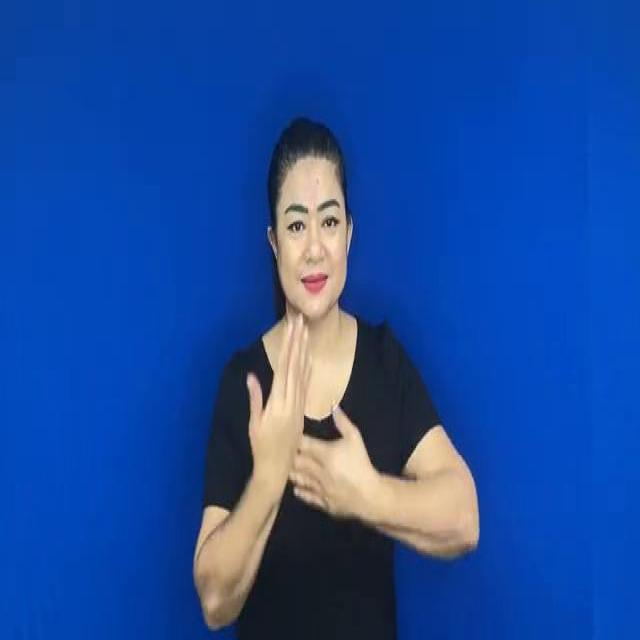bread: (244, 312, 386, 556)
